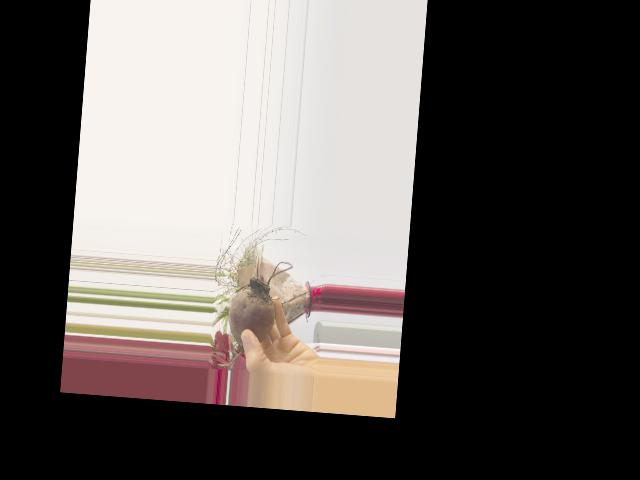beet: (218, 256, 293, 370)
